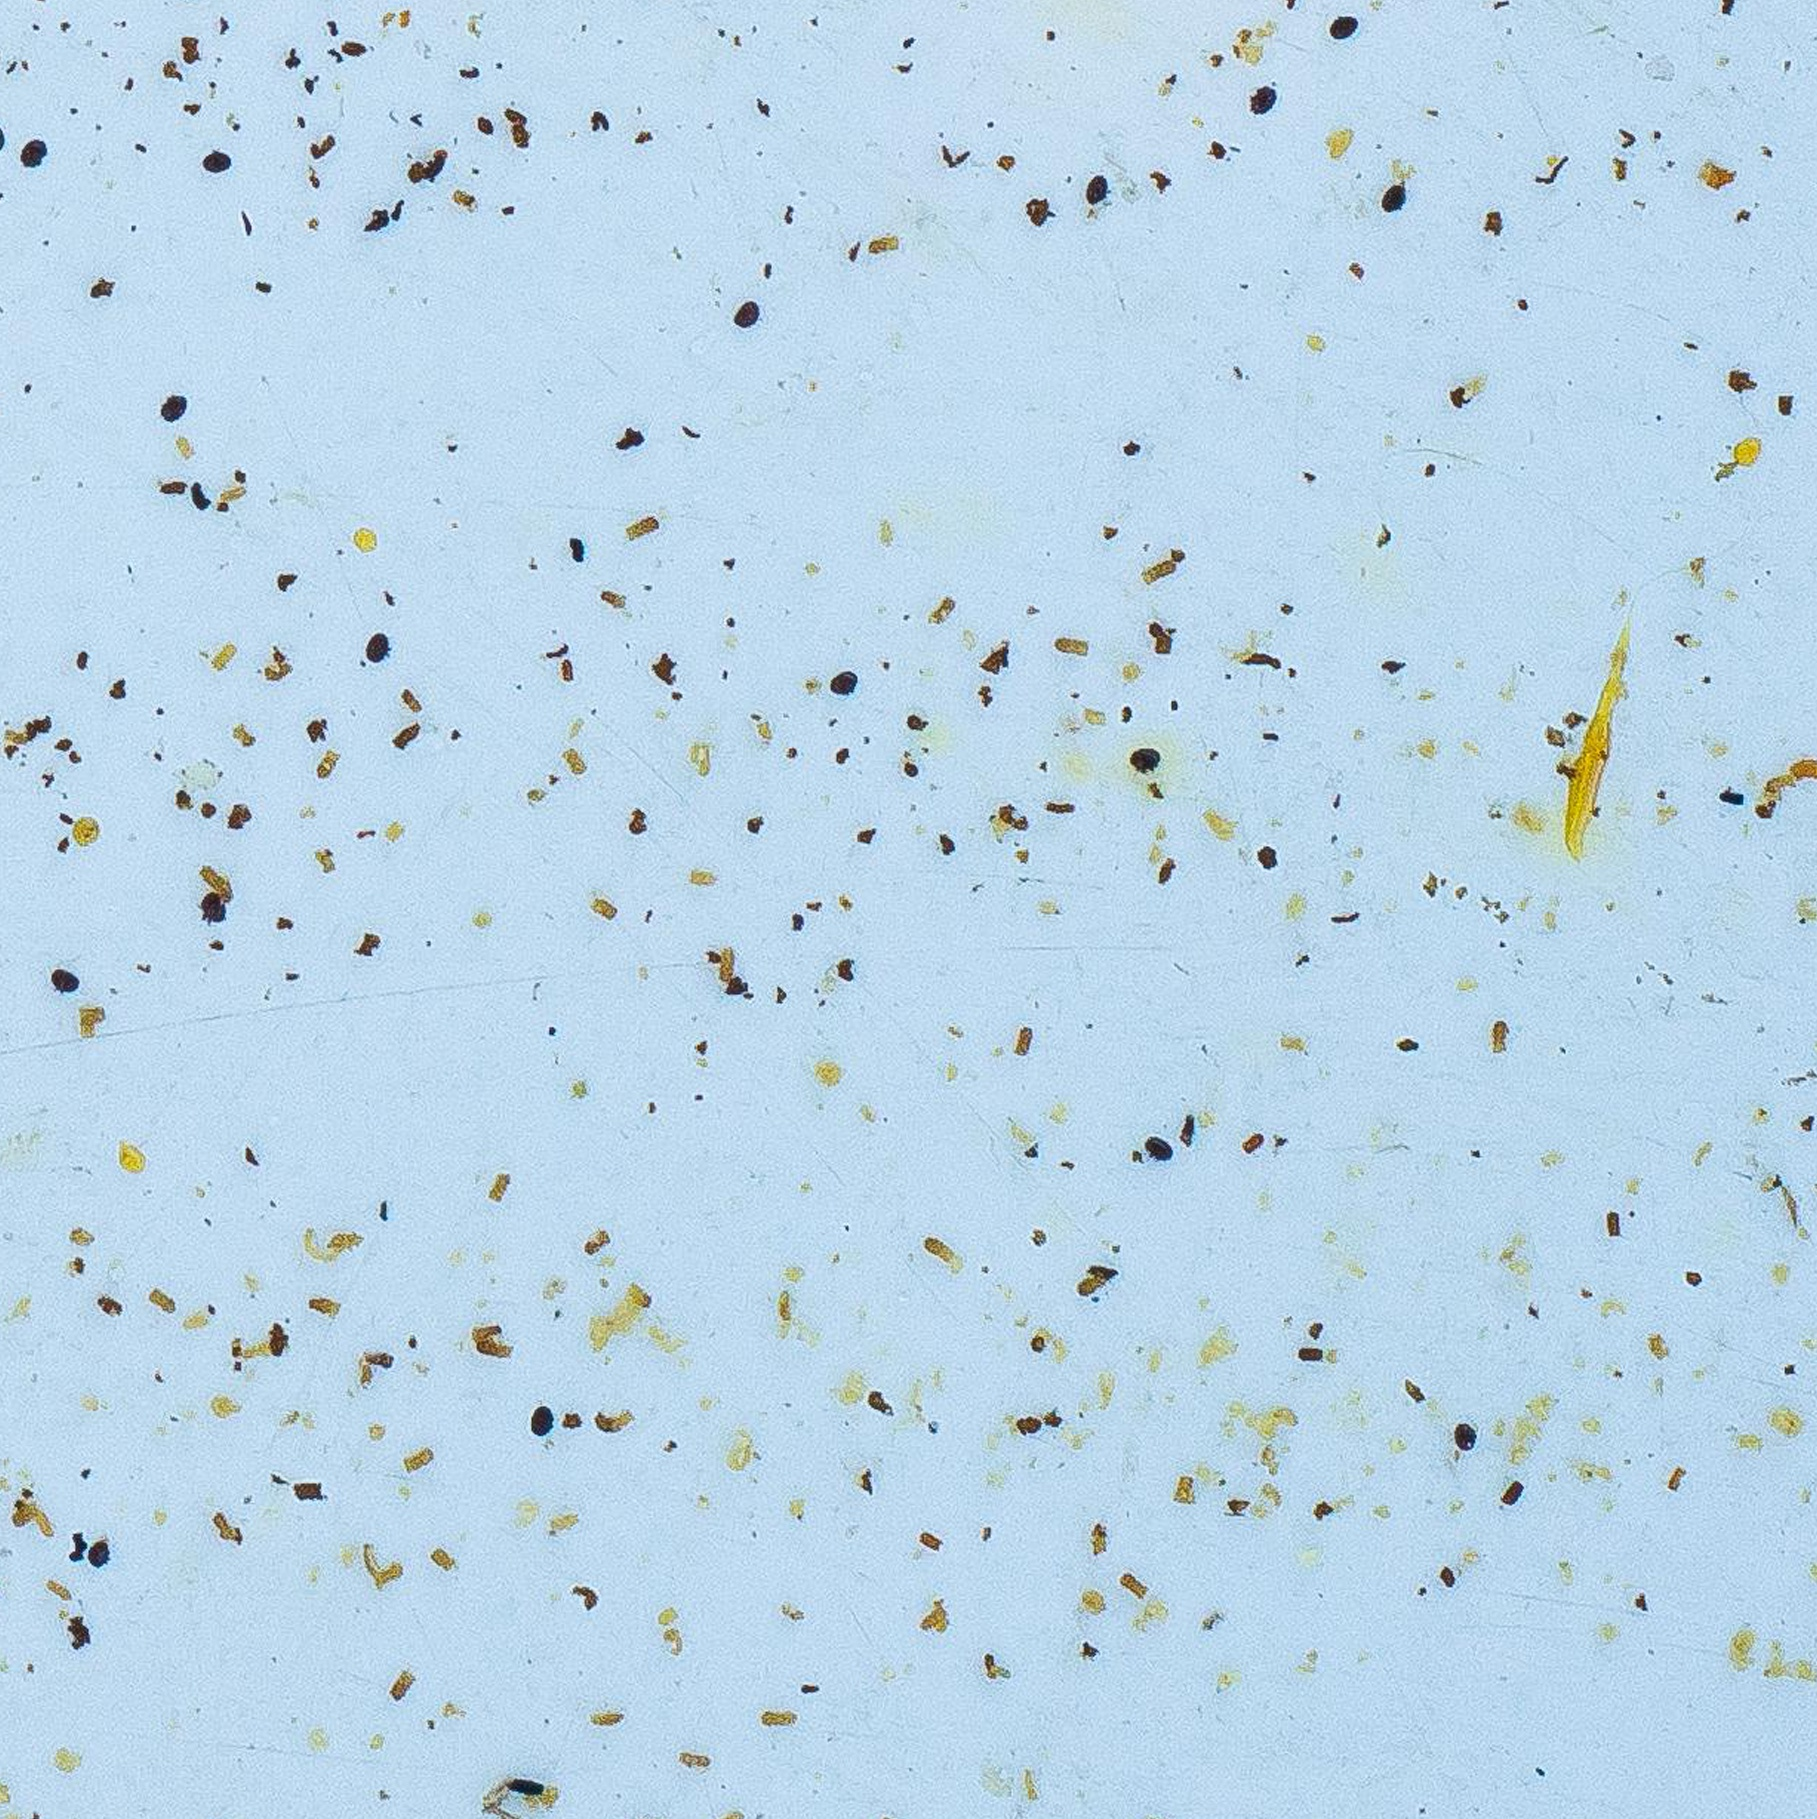Varroa: (200, 885, 233, 920), (48, 965, 82, 999), (1245, 80, 1276, 112), (1145, 1132, 1176, 1163), (82, 1536, 111, 1568), (1378, 181, 1408, 213), (526, 1401, 556, 1431), (17, 135, 47, 165), (829, 664, 859, 694), (1449, 1416, 1478, 1448), (363, 632, 391, 661), (1078, 173, 1107, 201), (158, 393, 186, 421), (205, 145, 231, 173), (734, 296, 760, 325), (1333, 12, 1358, 38), (1140, 744, 1163, 771)
